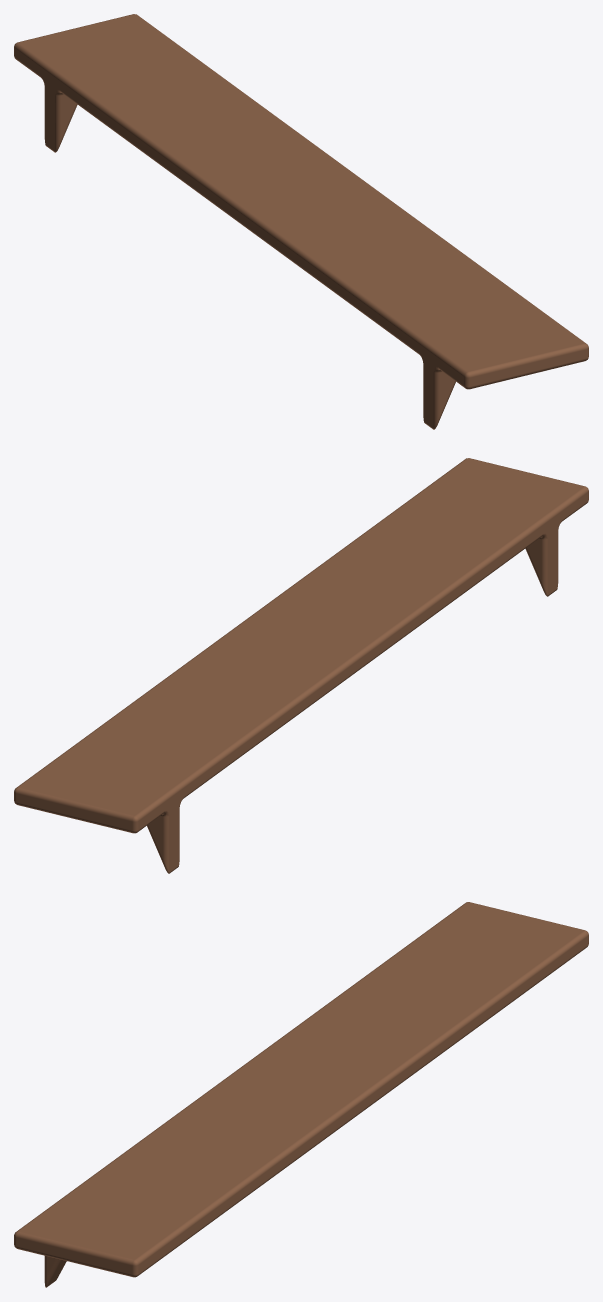
Rendered from Wall Shelf.fbx.
3 views of the same model, one above another, from view 1: azimuth 30°, elevation 25°; view 2: azimuth 150°, elevation 25°; view 3: azimuth 330°, elevation 25° (orthographic).
Visible parts, largest first — view 1: Wall Shelf; view 2: Wall Shelf; view 3: Wall Shelf.
Boxes of the visible parts, x1=… form: Wall Shelf: x1=14, y1=14, x2=588, y2=429; Wall Shelf: x1=14, y1=458, x2=588, y2=873; Wall Shelf: x1=14, y1=902, x2=588, y2=1287.
Size of the model in its own units: 30 by 18.43 by 190.
